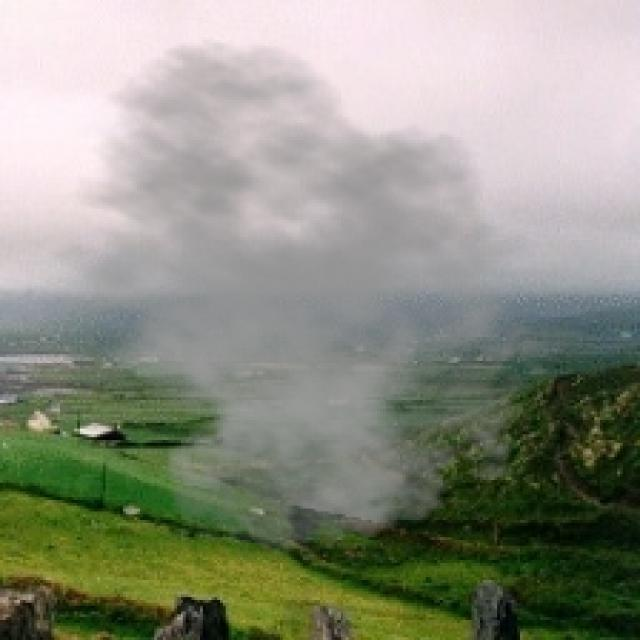Smoke: (28, 37, 574, 563)
